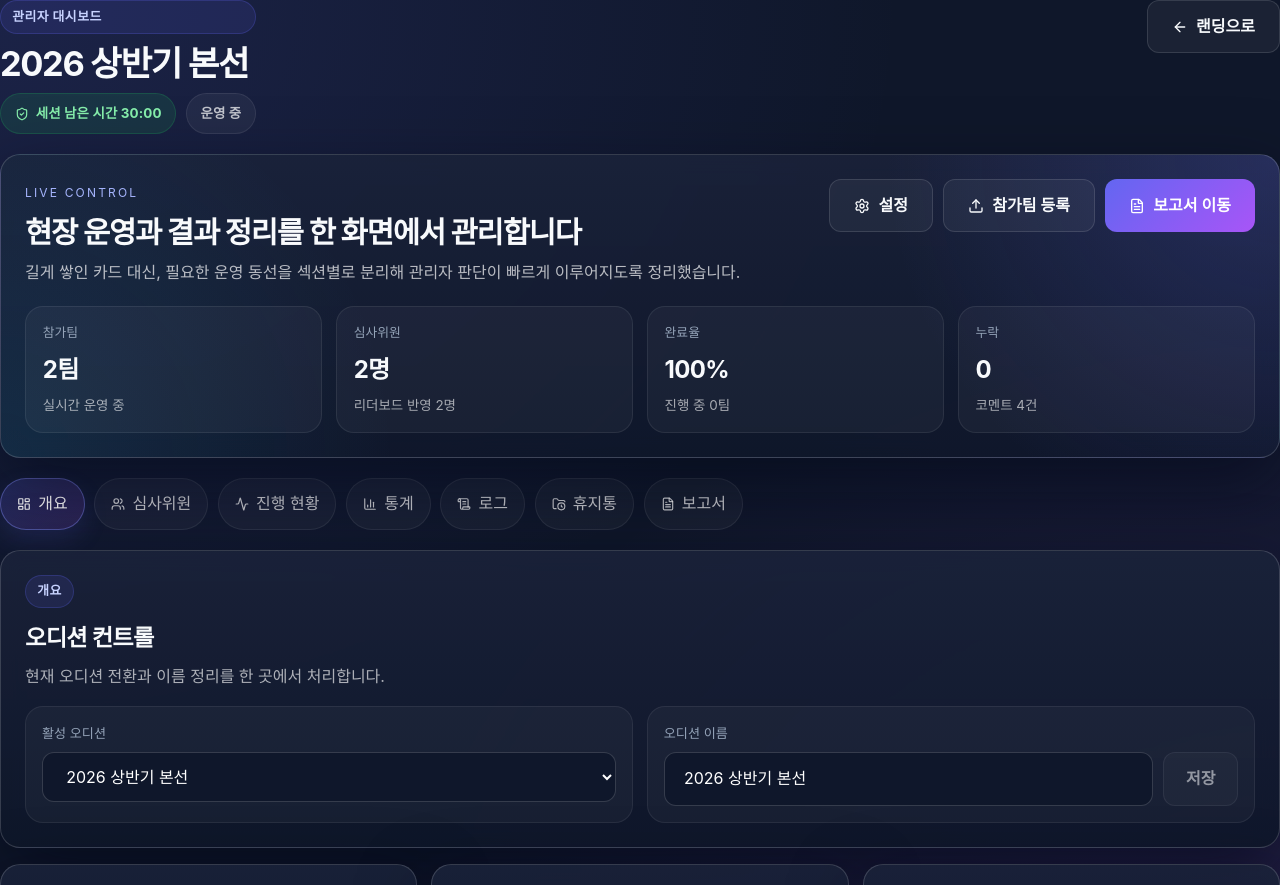
Test: AdminDashboardView › 통계 탭에서 심사위원 평균 점수와 후보자별 표준편차를 다시 보여준다
This screenshot has width=1280, height=885.
Click the button "통계" at (388, 504), box x1=346 y1=478 x2=431 y2=530
(page scrolled)
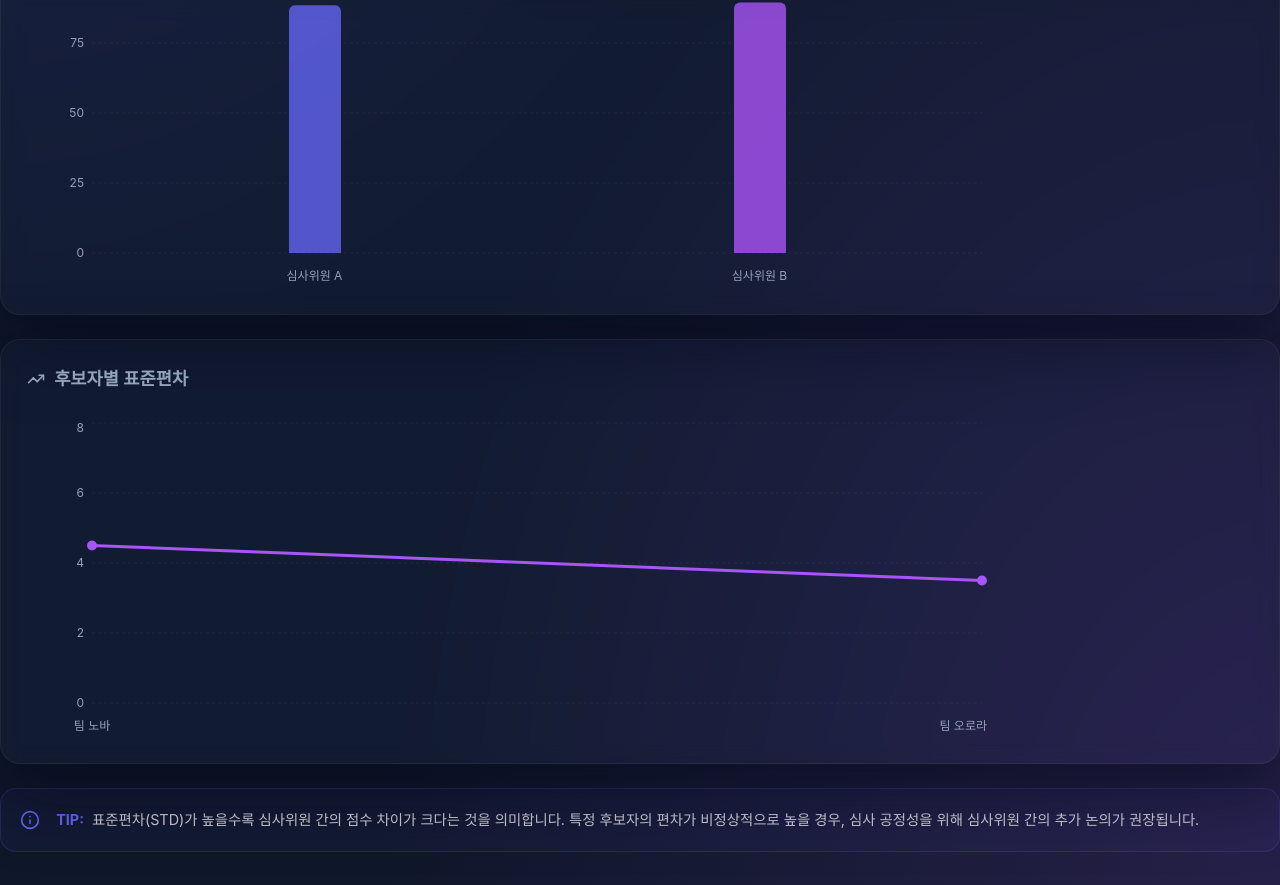
Result: the heading "후보자별 표준편차" is shown at x1=54 y1=365 x2=188 y2=394
Result: the text "표준편차(STD)" is shown at x1=92 y1=811 x2=1199 y2=828
